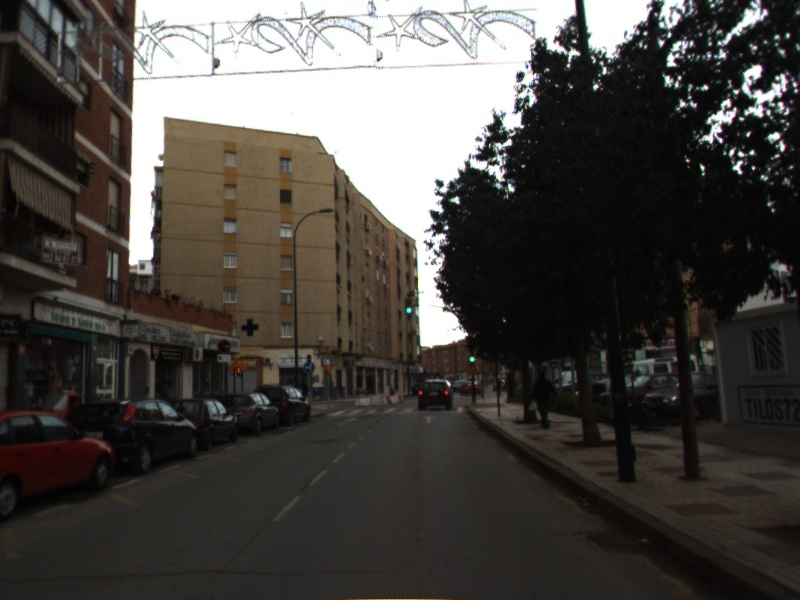STRAIGHT: (335, 416, 359, 428), (419, 414, 439, 425)
